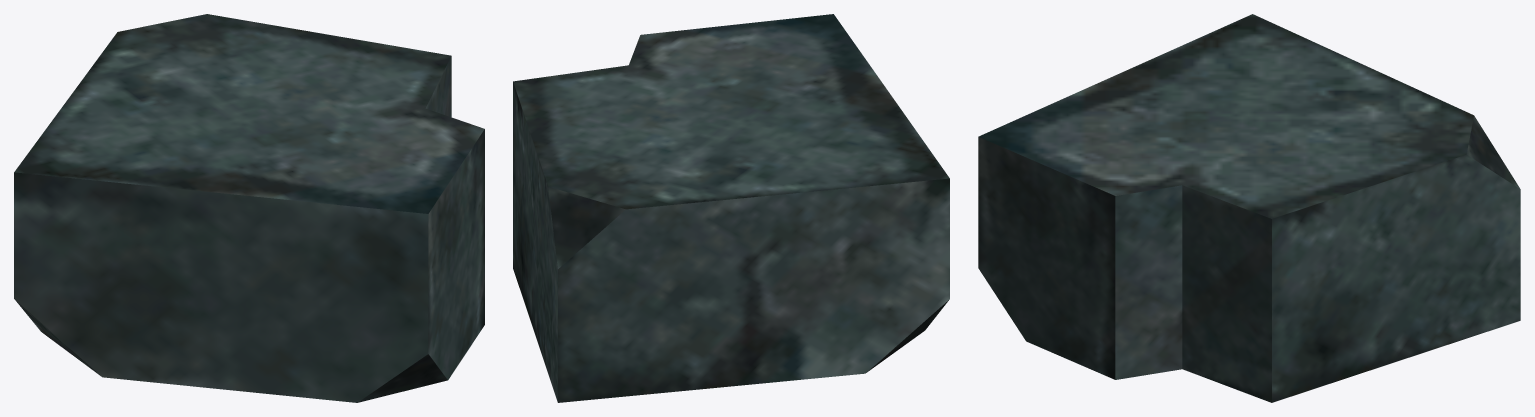
The model's file is floor_peice1.fbx.
3 views of the same model, side by side, from view 1: azimuth 30°, elevation 25°; view 2: azimuth 150°, elevation 25°; view 3: azimuth 270°, elevation 25° (orthographic). The views are drawn at different scales.
Visible parts, largest first — view 1: floor_shadow; view 2: floor_shadow; view 3: floor_shadow.
Boxes of the visible parts, <box> form: floor_shadow: <box>14,14,484,402</box>; floor_shadow: <box>513,14,949,402</box>; floor_shadow: <box>978,14,1520,402</box>.
Bounding box in the file's own units: 1.21 × 0.5083 × 1.36.
